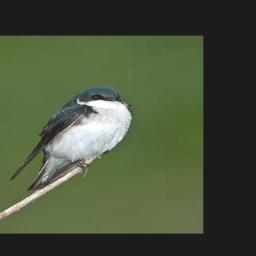Swallow: (9, 83, 136, 192)
